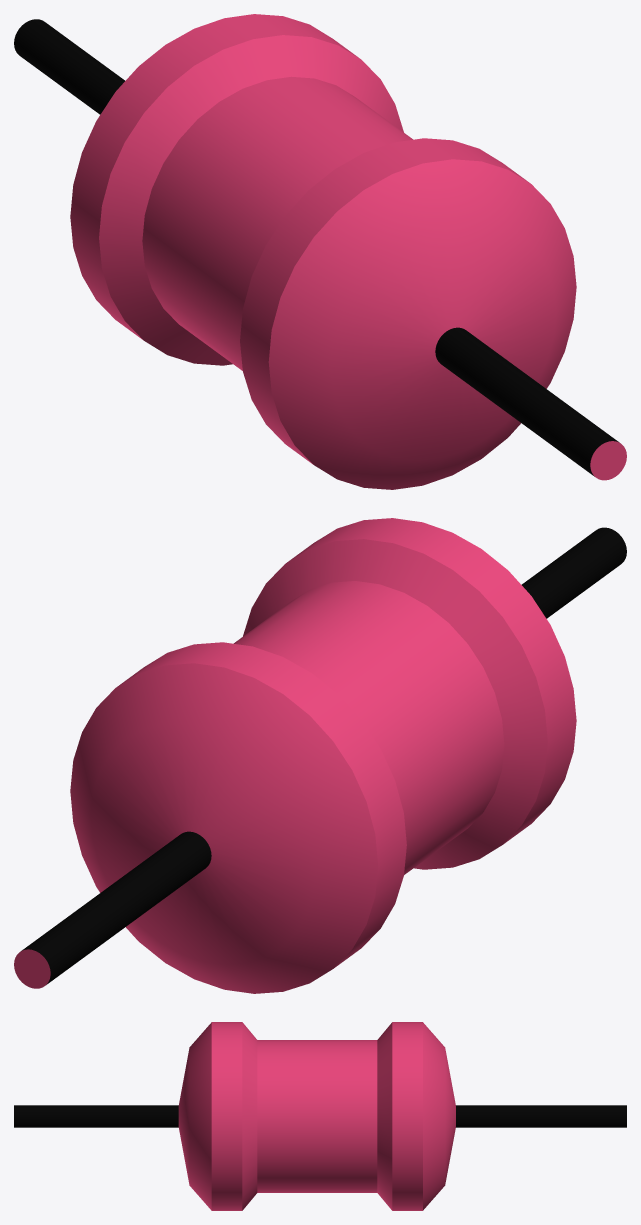
File: resistory.fbx
3 renders of one model, top to bottom at view 1: azimuth 30°, elevation 25°; view 2: azimuth 150°, elevation 25°; view 3: azimuth 270°, elevation 25°, orthographic. The views are drawn at different scales.
Parts seen in each view (by area): view 1: Cylinder.002; view 2: Cylinder.002; view 3: Cylinder.002.
Part boxes in pixels (box(x1,y1,x2,y2)): Cylinder.002: box(14, 14, 626, 489); Cylinder.002: box(14, 518, 626, 993); Cylinder.002: box(14, 1022, 626, 1210).
Bounding box in the file's own units: 247 × 247 × 801.
